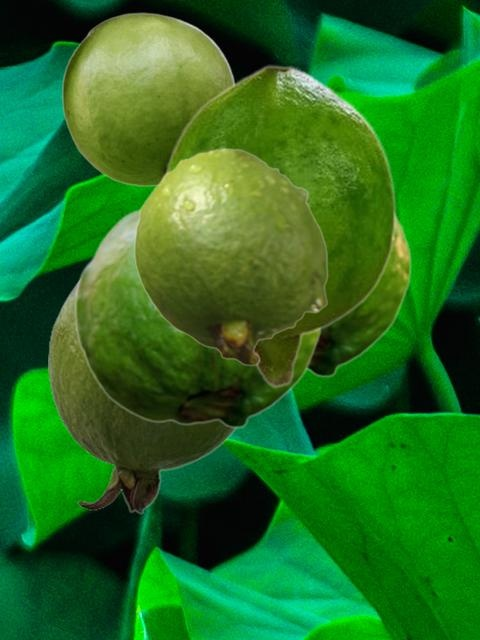guava: (165, 64, 396, 388), (74, 208, 321, 428), (48, 278, 238, 513), (133, 147, 327, 365), (61, 12, 236, 186), (307, 214, 410, 377)
